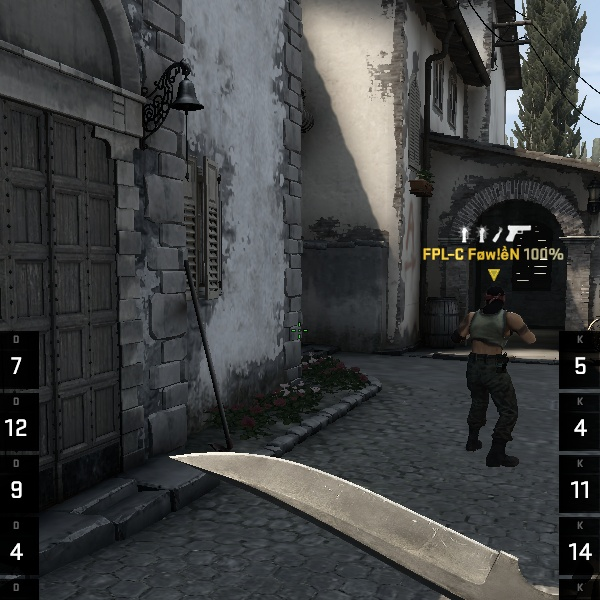t_body: (440, 283, 544, 468)
t_head: (476, 284, 510, 318)
